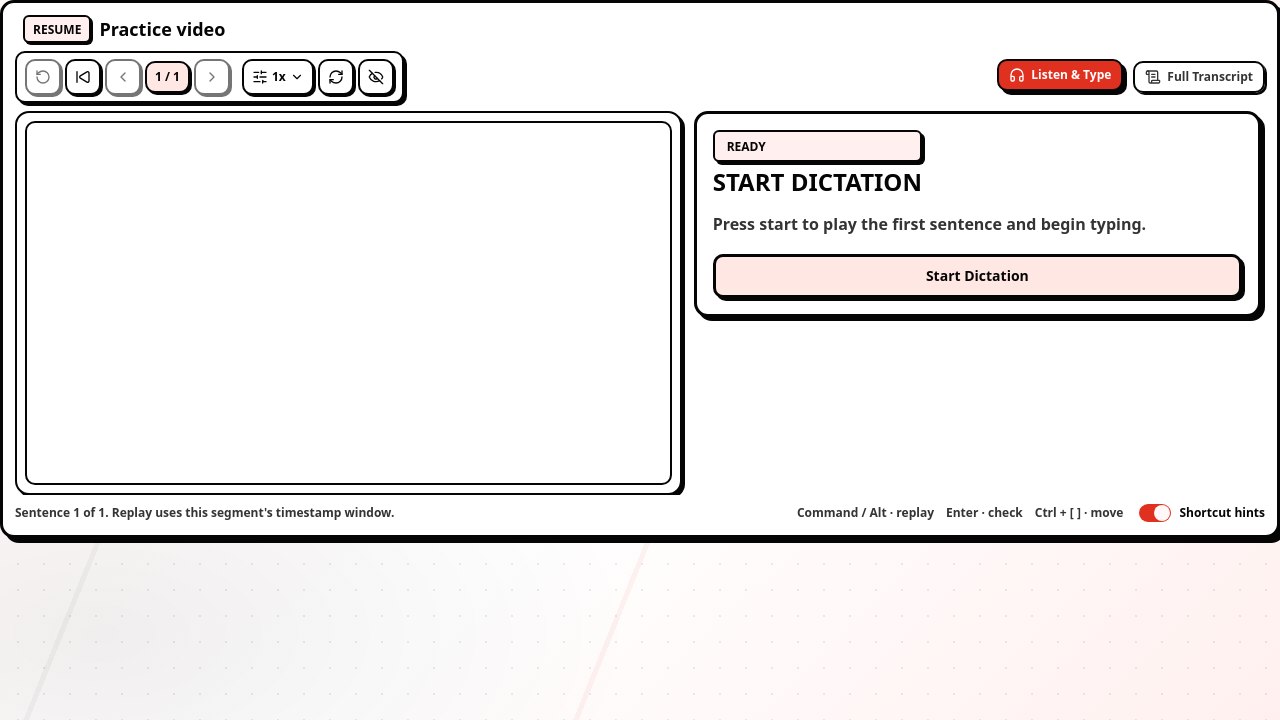
Test: DictationPracticeShell attempts › Check rewrites accepted variant "five kg" back to the exact answer
Click the button "Start Dictation".
click(977, 276)  # box x1=713 y1=254 x2=1242 y2=298
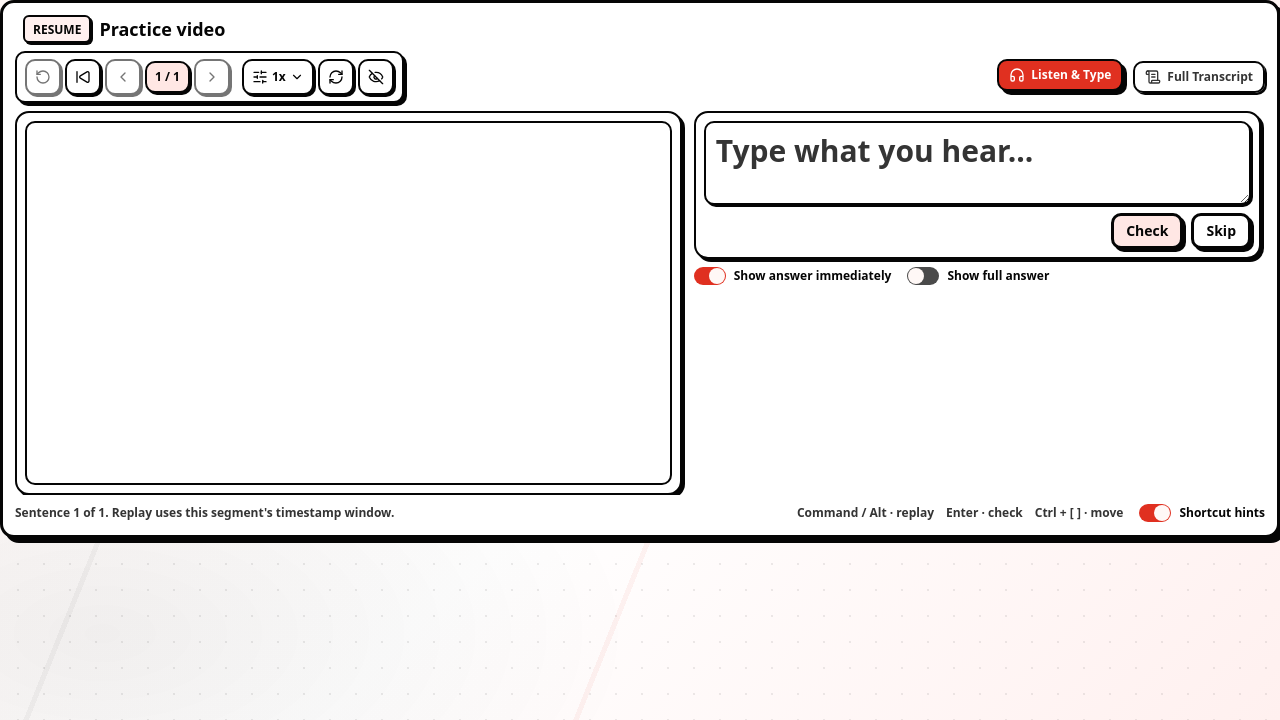
Type "5kg" into the text box labelled "Type what you hear".
click(977, 163); type("5kg")  # box x1=706 y1=123 x2=1249 y2=203
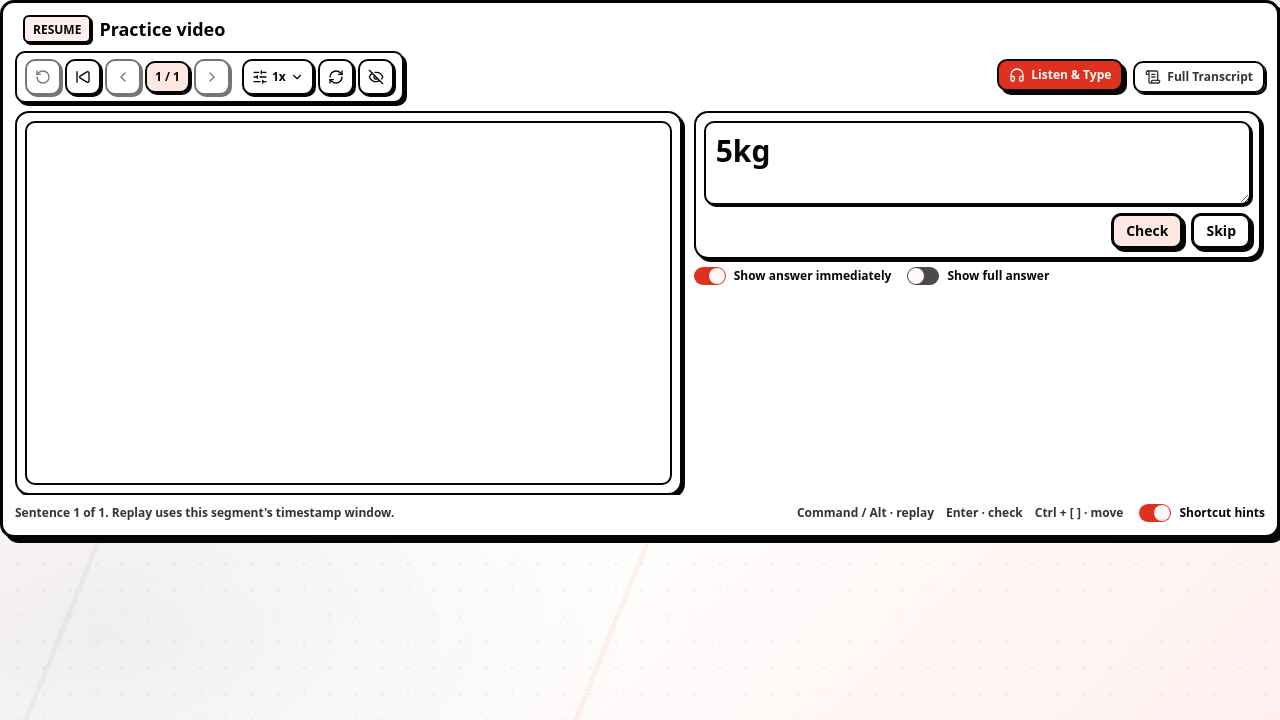
Click the button "Check".
click(1147, 231)  # box x1=1111 y1=213 x2=1184 y2=249
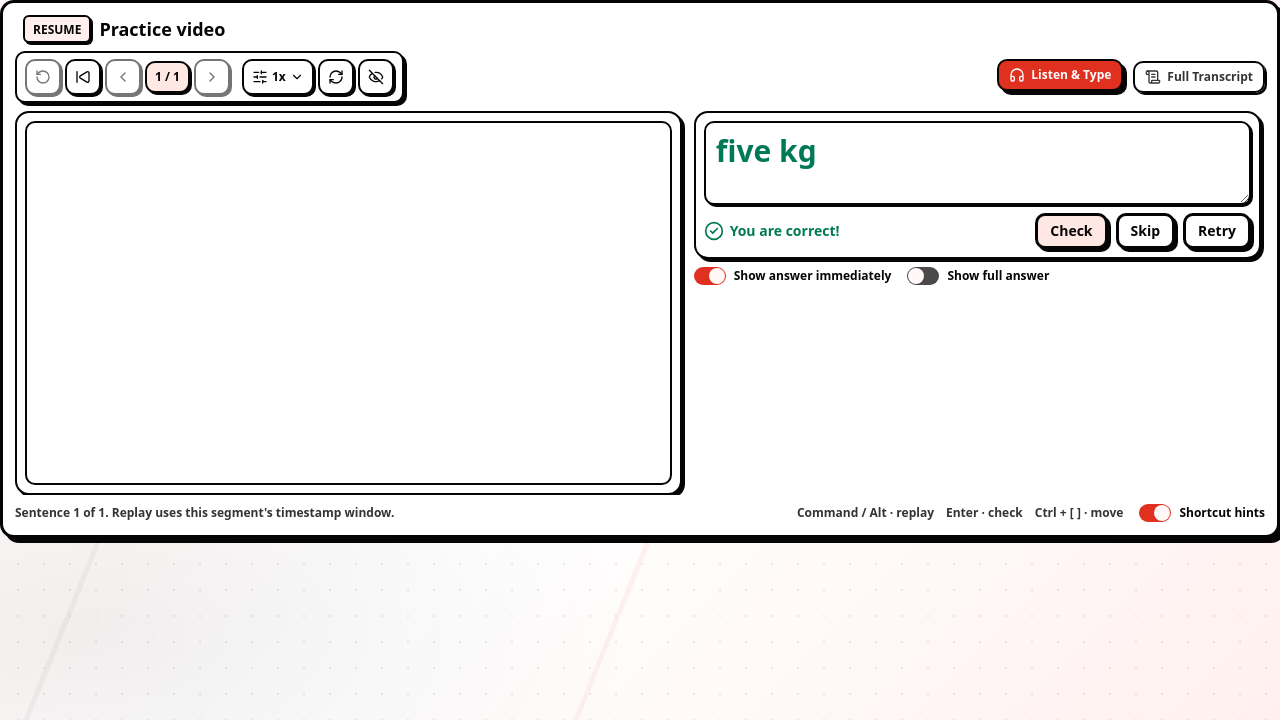
Expected: the text box named "Type what you hear" holds "five kg", x1=706 y1=123 x2=1249 y2=203
Expected: the message reads "You are correct!", x1=730 y1=221 x2=840 y2=240
